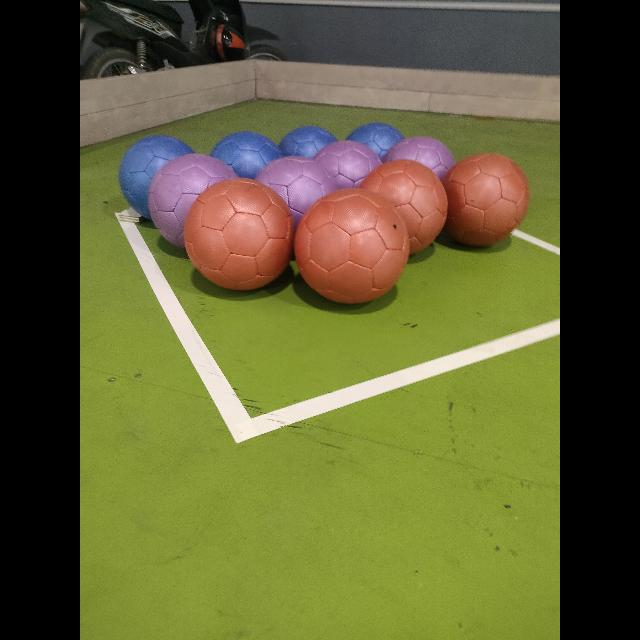B: (120, 134, 194, 218), (211, 132, 283, 178), (346, 122, 404, 158), (279, 125, 337, 158)
P: (148, 153, 238, 247), (256, 157, 336, 227), (382, 136, 454, 180)
R: (295, 189, 409, 303), (184, 178, 294, 290), (354, 160, 452, 256), (443, 152, 529, 245)
